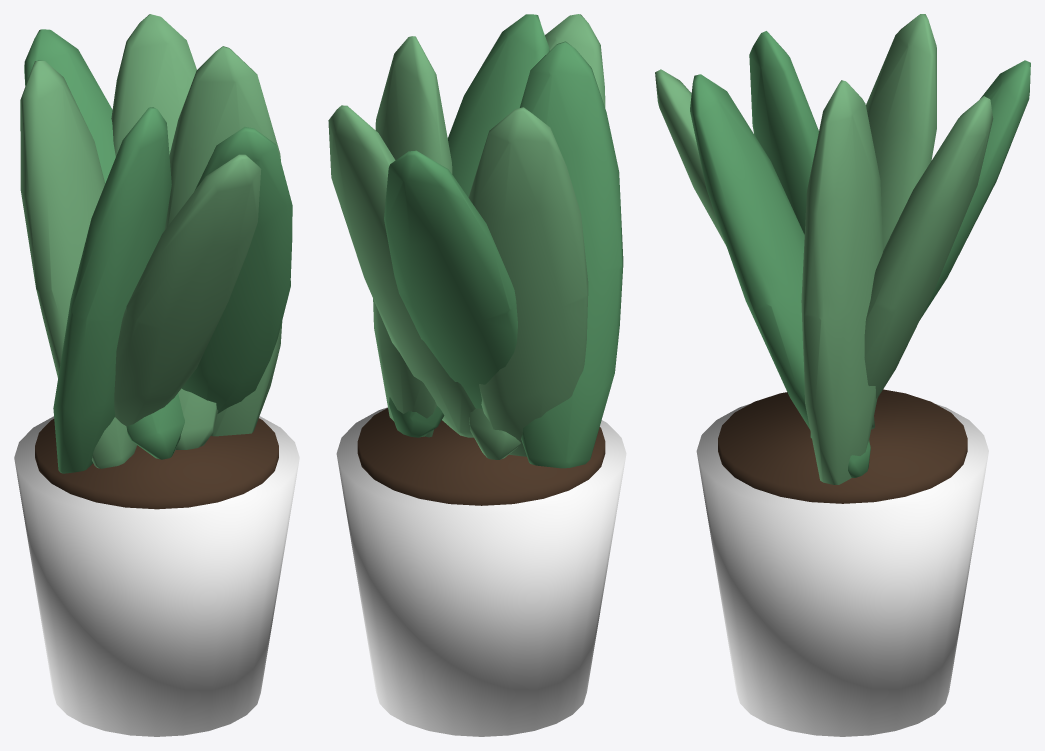
The model's file is plant_small.glb.
The picture shows the model from 3 angles, left to right: view 1: azimuth 30°, elevation 25°; view 2: azimuth 150°, elevation 25°; view 3: azimuth 270°, elevation 25°; orthographic projection. The views are drawn at different scales.
Visible parts, largest first — view 1: pot, leaf.002, leaf.003, leaf.004, leaf.001, soil, leaf, leaf.006, leaf.005; view 2: pot, leaf.004, leaf.005, leaf.003, leaf.006, soil, leaf, leaf.001, leaf.002; view 3: pot, leaf, leaf.001, soil, leaf.006, leaf.004, leaf.003, leaf.005, leaf.002.
Part boxes in pixels (box(x1,y1,x2,y2)): pot: box(14, 416, 299, 736); leaf.002: box(114, 154, 261, 426); leaf.003: box(53, 107, 171, 473); leaf.004: box(20, 60, 136, 468); leaf.001: box(181, 127, 292, 413); soil: box(35, 418, 278, 509); leaf: box(164, 46, 282, 436); leaf.006: box(111, 14, 218, 449); leaf.005: box(24, 29, 184, 459); pot: box(336, 407, 626, 736); leaf.004: box(468, 107, 588, 456); leaf.005: box(384, 150, 517, 408); leaf.003: box(520, 41, 623, 468); leaf.006: box(328, 105, 475, 437); soil: box(357, 408, 605, 505); leaf: box(373, 36, 452, 437); leaf.001: box(389, 14, 549, 437); leaf.002: box(469, 14, 605, 459); pot: box(696, 404, 988, 736); leaf: box(801, 80, 882, 484); leaf.001: box(690, 74, 870, 477); soil: box(718, 389, 967, 503); leaf.006: box(864, 96, 993, 398); leaf.004: box(866, 14, 936, 250); leaf.003: box(749, 31, 818, 234); leaf.005: box(810, 60, 1030, 438); leaf.002: box(655, 69, 874, 429).
Bounding box in the file's own units: 0.11 × 0.2675 × 0.1414.
